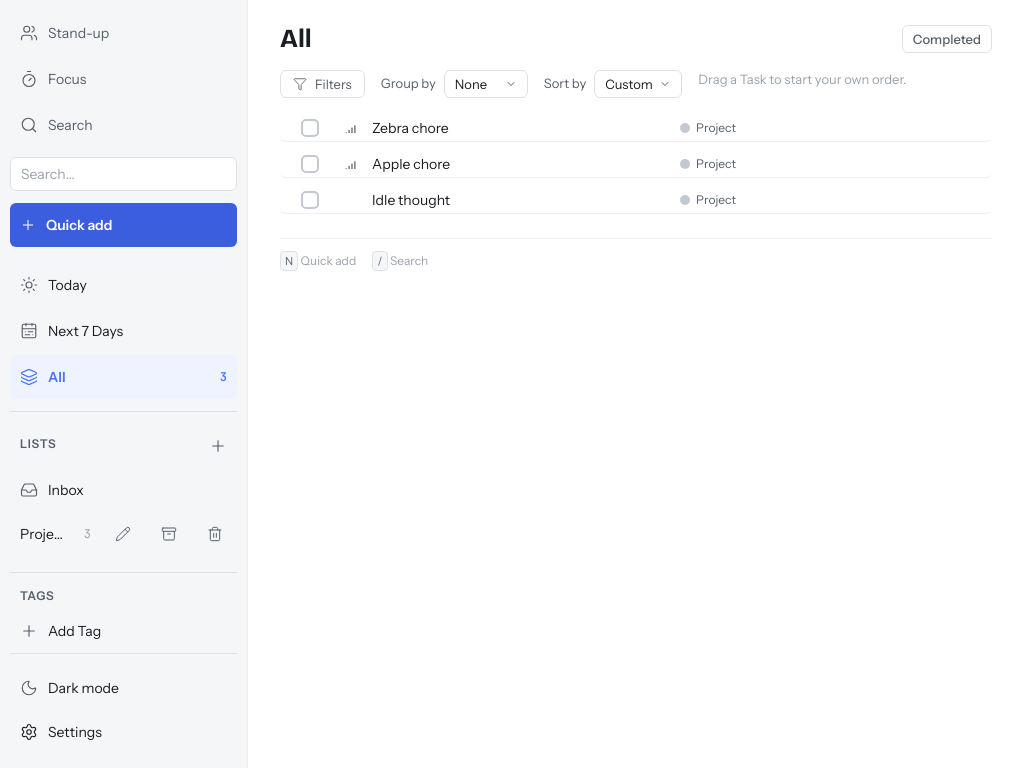
Group and sort controls › groups by priority and sorts by title within groups
(page scrolled)
Click the button "Project 3" at {"x": 56, "y": 534}, box [10, 512, 101, 556]
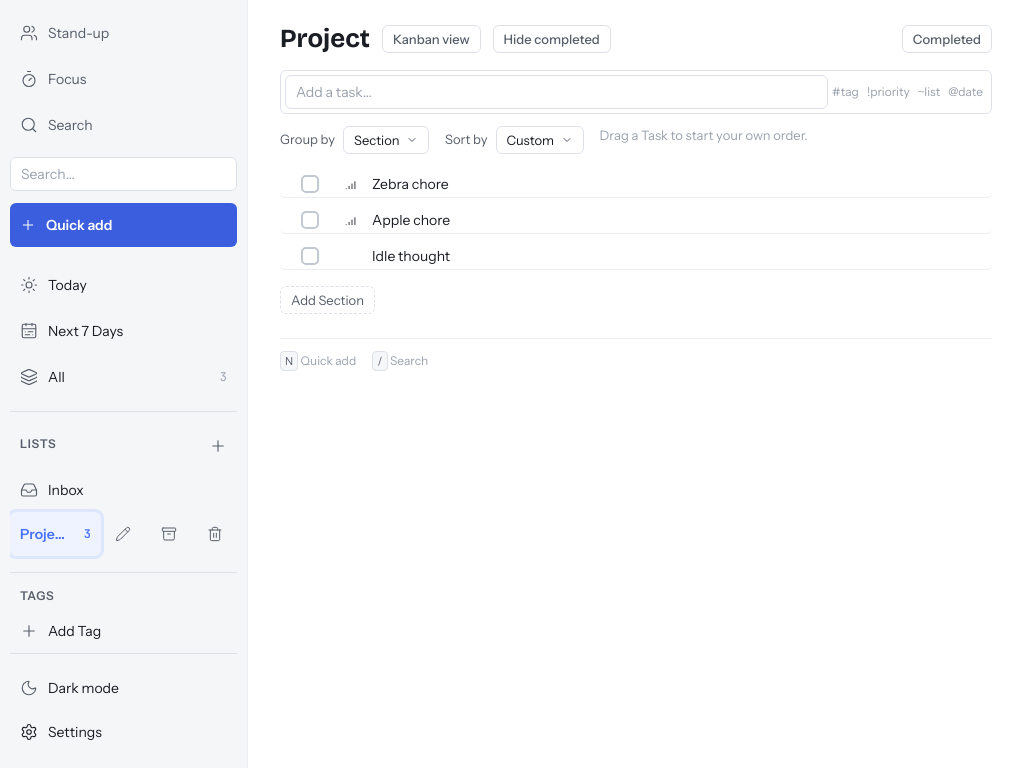
Expected: the text "Idle thought" is shown, [372, 247, 450, 265]
Select "Priority" in the dropdown labelled "Group by" at {"x": 386, "y": 140}, box [343, 126, 429, 154]
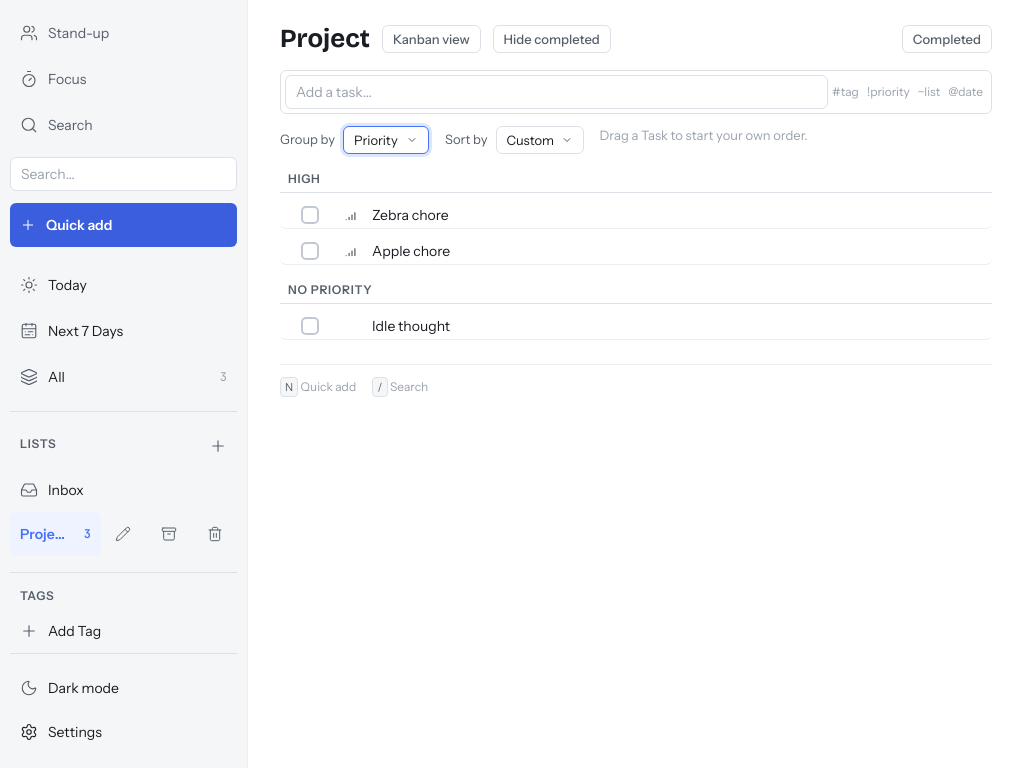
Select "Title" in the dropdown labelled "Sort by" at {"x": 540, "y": 140}, box [496, 126, 584, 154]
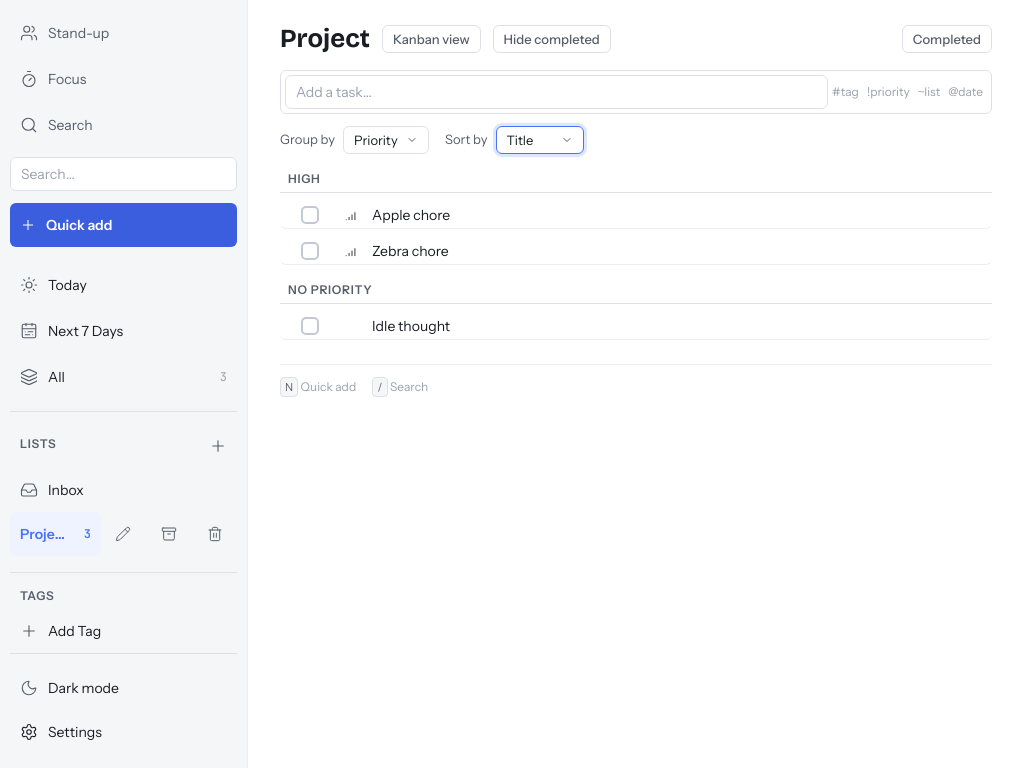
Expected: the headings read "High", "No priority", in this order, [288, 170, 320, 188]; [288, 281, 372, 299]
Expected: the buttons "Open details" read "Apple chore", "Zebra chore", in this order, [372, 206, 608, 224]; [372, 242, 608, 260]
